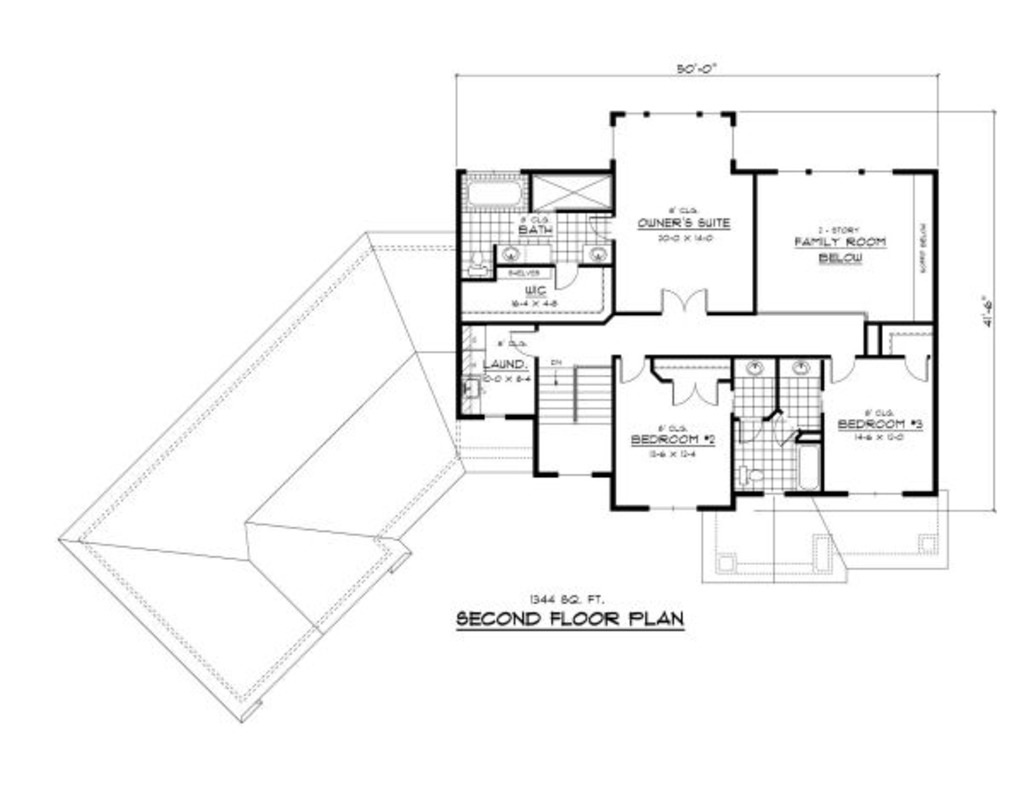door: (657, 285, 708, 316), (668, 378, 718, 408), (902, 351, 937, 389), (505, 330, 544, 364), (616, 351, 650, 387), (823, 351, 855, 386), (549, 262, 577, 290)
small_sink: (488, 241, 533, 266), (733, 357, 774, 379), (778, 358, 823, 378), (579, 241, 613, 266)
stairs: (539, 360, 616, 475)
tub: (455, 171, 530, 213), (798, 441, 826, 495)
windows: (772, 161, 907, 178), (623, 106, 732, 121), (844, 485, 907, 506), (494, 241, 530, 266), (645, 501, 698, 517)
